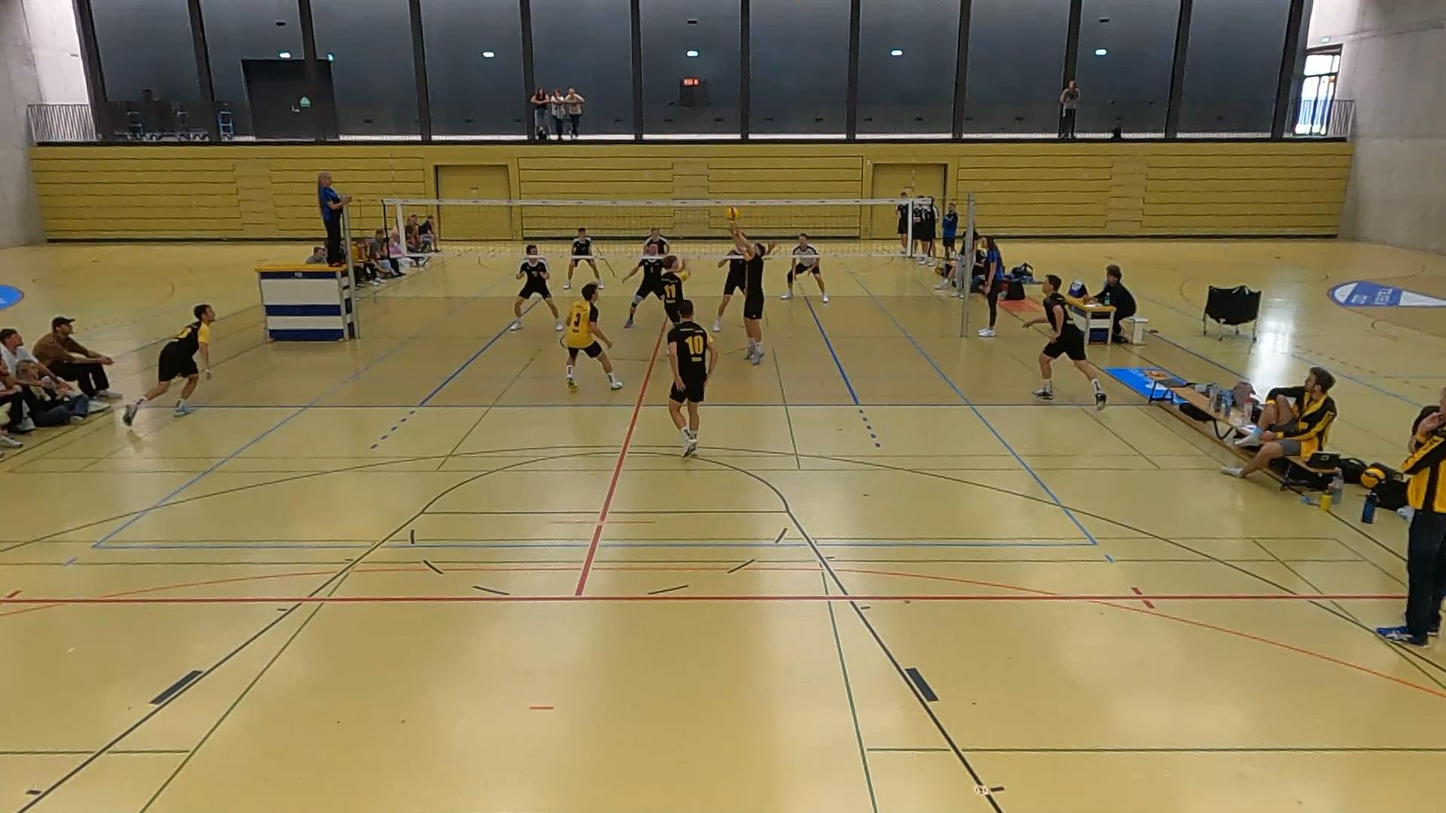alzata: (722, 221, 776, 368)
